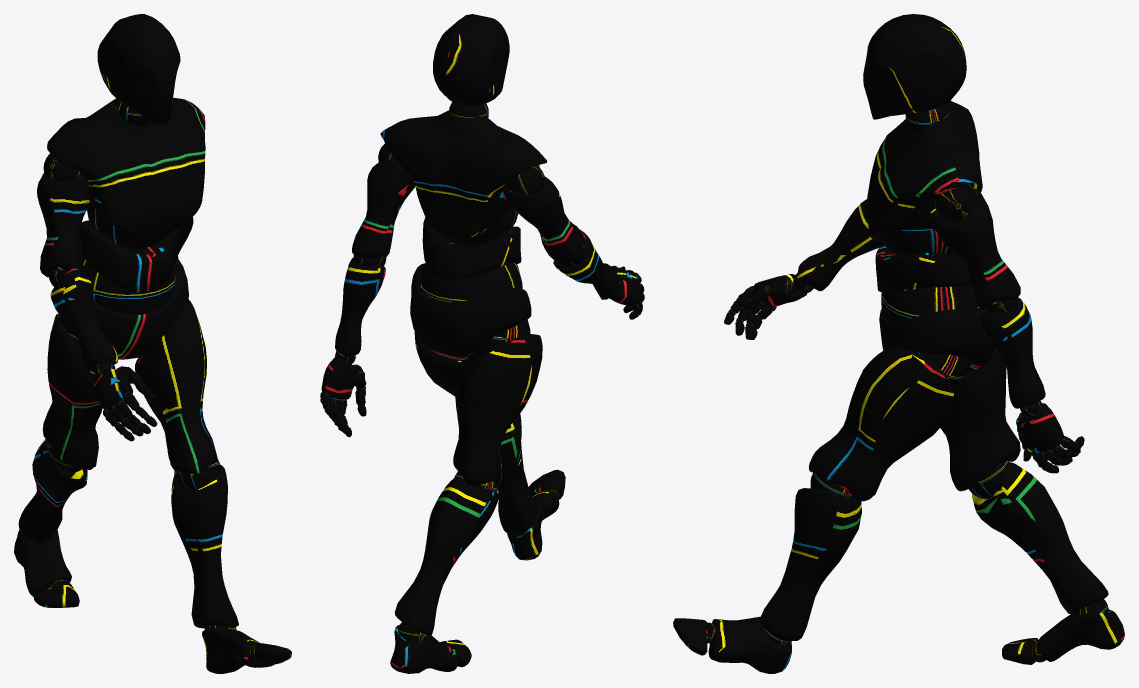
Rendered from y-bot-origin_000020.obj.
3 renders of one model, left to right at view 1: azimuth 30°, elevation 25°; view 2: azimuth 150°, elevation 25°; view 3: azimuth 270°, elevation 25°, orthographic. The views are drawn at different scales.
Visible parts, largest first — view 1: Alpha_Surface_Alpha_SurfaceMesh, Alpha_Joints_Alpha_JointsMesh; view 2: Alpha_Surface_Alpha_SurfaceMesh, Alpha_Joints_Alpha_JointsMesh; view 3: Alpha_Surface_Alpha_SurfaceMesh, Alpha_Joints_Alpha_JointsMesh.
Boxes of the visible parts, <box> form: Alpha_Surface_Alpha_SurfaceMesh: <box>14,14,291,673</box>; Alpha_Joints_Alpha_JointsMesh: <box>24,98,257,664</box>; Alpha_Surface_Alpha_SurfaceMesh: <box>320,14,644,673</box>; Alpha_Joints_Alpha_JointsMesh: <box>320,101,643,641</box>; Alpha_Surface_Alpha_SurfaceMesh: <box>673,14,1124,673</box>; Alpha_Joints_Alpha_JointsMesh: <box>707,104,1108,662</box>.
Bounding box in the file's own units: 0.5784 × 1.74 × 1.09.
